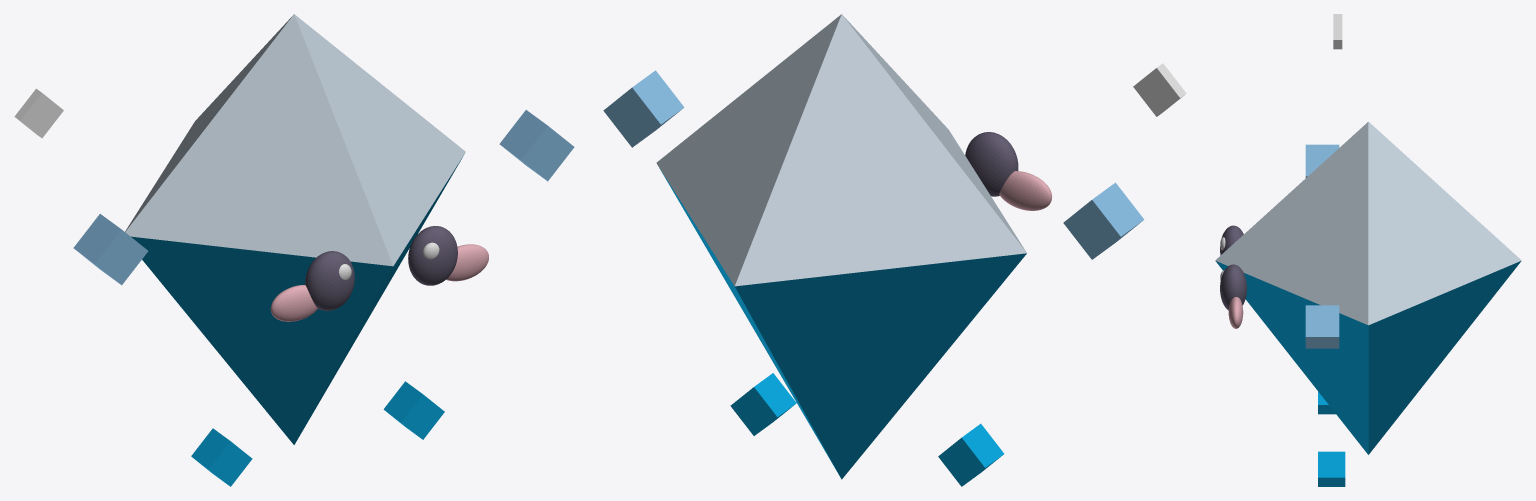
File: kiratsubu_sky.glb
3 renders of one model, left to right at view 1: azimuth 30°, elevation 25°; view 2: azimuth 150°, elevation 25°; view 3: azimuth 270°, elevation 25°, orthographic. The views are drawn at different scales.
Parts seen in each view (by area): view 1: kiratsubu_0, kiratsubu_1, kiratsubu_2, kiratsubu_3, kiratsubu_10, kiratsubu_7, kiratsubu_5, kiratsubu_4, kiratsubu_6, kiratsubu_9, kiratsubu_12; view 2: kiratsubu_0, kiratsubu_1, kiratsubu_2, kiratsubu_3, kiratsubu_7, kiratsubu_4, kiratsubu_5, kiratsubu_9, kiratsubu_6; view 3: kiratsubu_0, kiratsubu_1, kiratsubu_3, kiratsubu_5, kiratsubu_10, kiratsubu_2, kiratsubu_12, kiratsubu_6, kiratsubu_7.
Boxes of the visible parts, box(x1,y1,x2,y2) form: kiratsubu_0: box(125, 14, 465, 266); kiratsubu_1: box(131, 155, 463, 444); kiratsubu_2: box(73, 214, 148, 285); kiratsubu_3: box(499, 110, 574, 181); kiratsubu_10: box(408, 226, 457, 285); kiratsubu_7: box(305, 251, 354, 310); kiratsubu_5: box(383, 381, 444, 439); kiratsubu_4: box(191, 428, 252, 486); kiratsubu_6: box(14, 88, 63, 138); kiratsubu_9: box(270, 285, 317, 321); kiratsubu_12: box(446, 244, 488, 281); kiratsubu_0: box(656, 14, 1026, 286); kiratsubu_1: box(657, 164, 1026, 479); kiratsubu_2: box(1063, 182, 1144, 259); kiratsubu_3: box(603, 70, 684, 147); kiratsubu_7: box(965, 132, 1018, 196); kiratsubu_4: box(938, 423, 1004, 486); kiratsubu_5: box(730, 373, 796, 435); kiratsubu_9: box(999, 171, 1051, 210); kiratsubu_6: box(1133, 63, 1186, 116); kiratsubu_0: box(1215, 122, 1521, 325); kiratsubu_1: box(1215, 261, 1521, 454); kiratsubu_3: box(1305, 305, 1339, 348); kiratsubu_5: box(1318, 451, 1345, 486); kiratsubu_10: box(1220, 264, 1246, 310); kiratsubu_2: box(1305, 144, 1339, 177); kiratsubu_12: box(1228, 297, 1243, 328); kiratsubu_6: box(1333, 14, 1342, 49); kiratsubu_7: box(1220, 225, 1243, 255).
Bounding box in the file's own units: 1.56 × 1.21 × 1.
